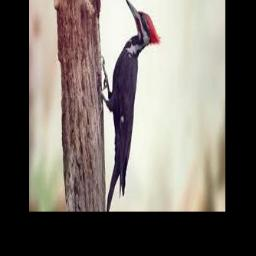Woodpecker: (100, 0, 160, 212)
